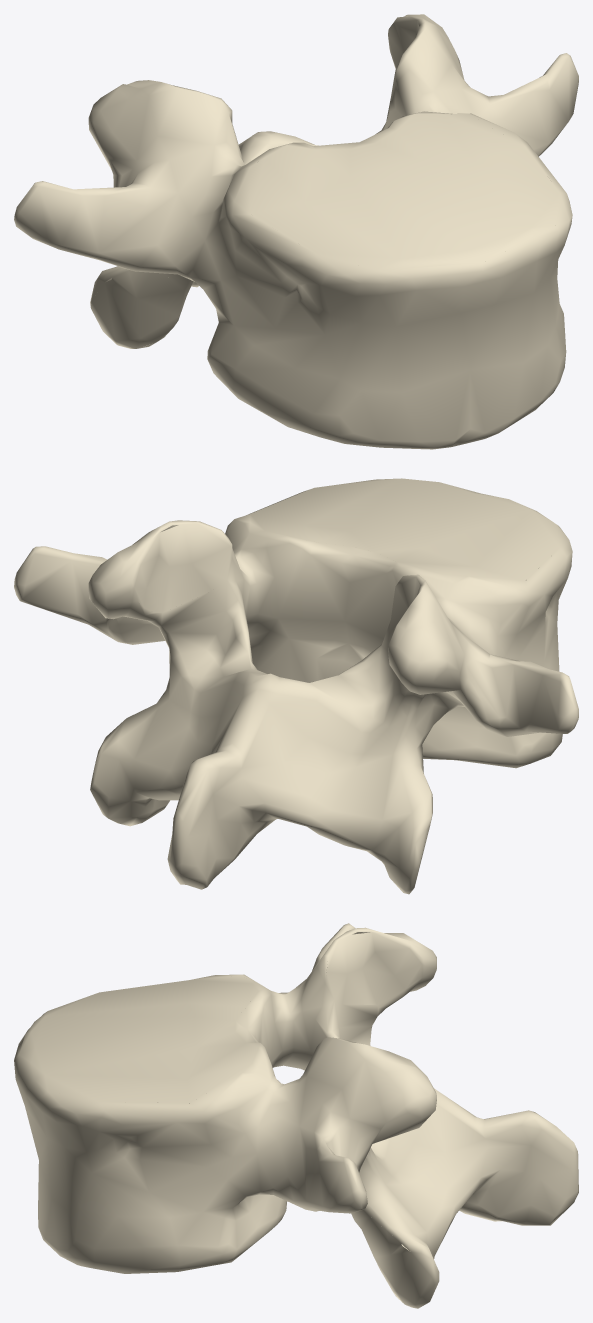
Rendered from esqueleto-vertebra-l4.glb.
The picture shows the model from 3 angles, top to bottom: view 1: azimuth 30°, elevation 25°; view 2: azimuth 150°, elevation 25°; view 3: azimuth 270°, elevation 25°; orthographic projection. The views are drawn at different scales.
Parts seen in each view (by area): view 1: Vertebra L4; view 2: Vertebra L4; view 3: Vertebra L4.
Part boxes in pixels (x1=…): Vertebra L4: x1=14, y1=14, x2=578, y2=449; Vertebra L4: x1=14, y1=478, x2=578, y2=894; Vertebra L4: x1=14, y1=923, x2=578, y2=1308.
Bounding box in the file's own units: 0.0887 × 0.0429 × 0.0842.
